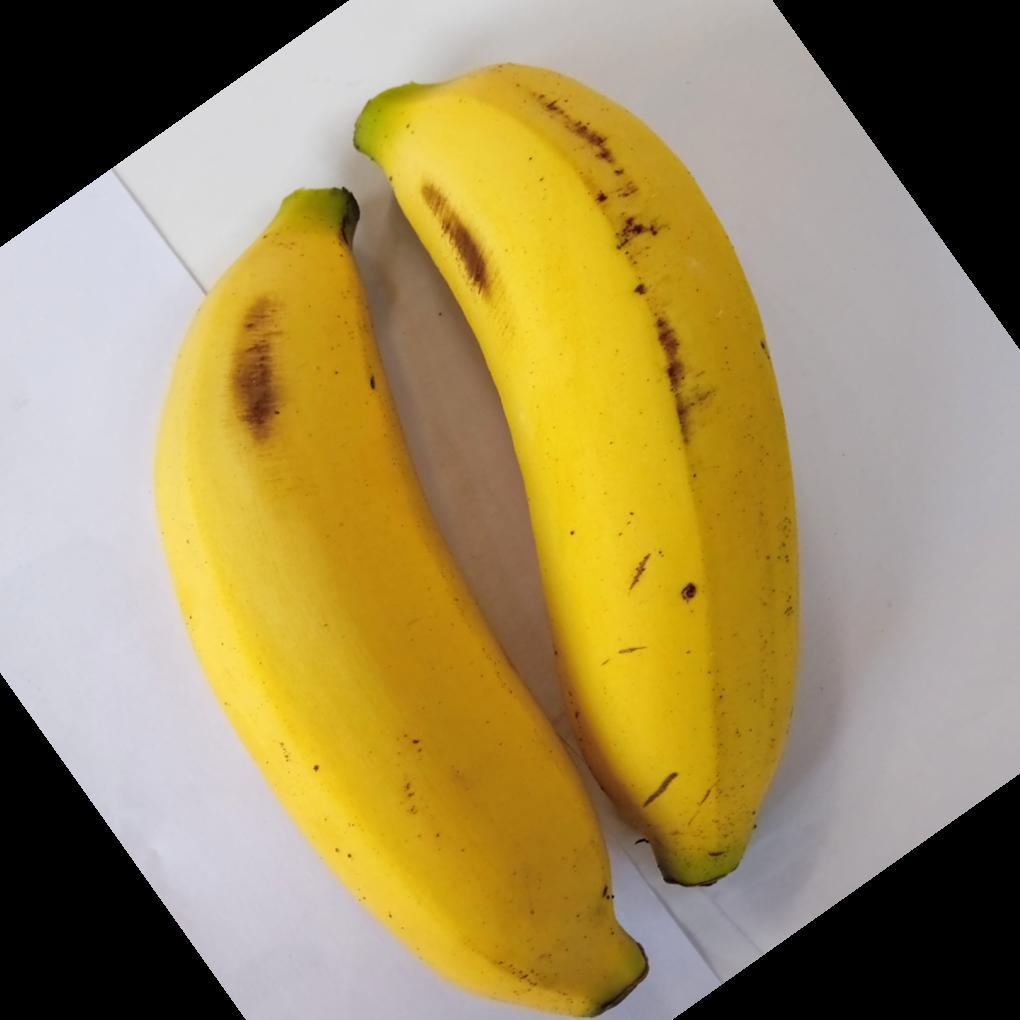Banana Ripe: (358, 2, 1020, 1020), (151, 136, 668, 1020)
